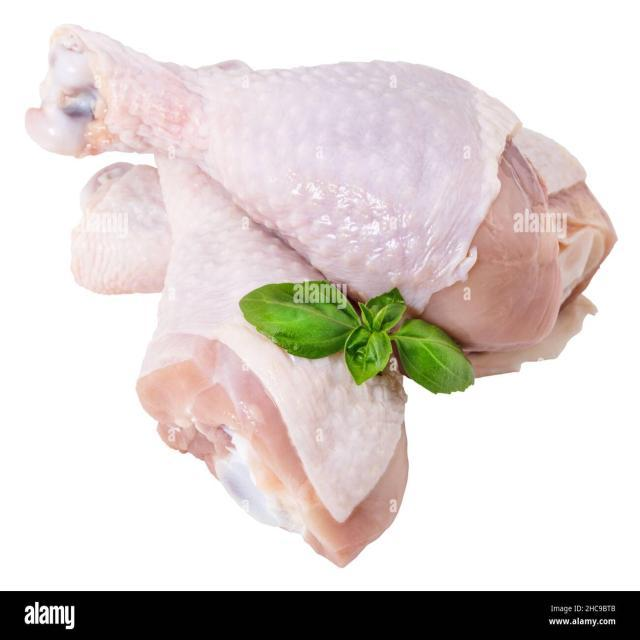leg: (45, 25, 608, 362), (133, 62, 409, 550)
